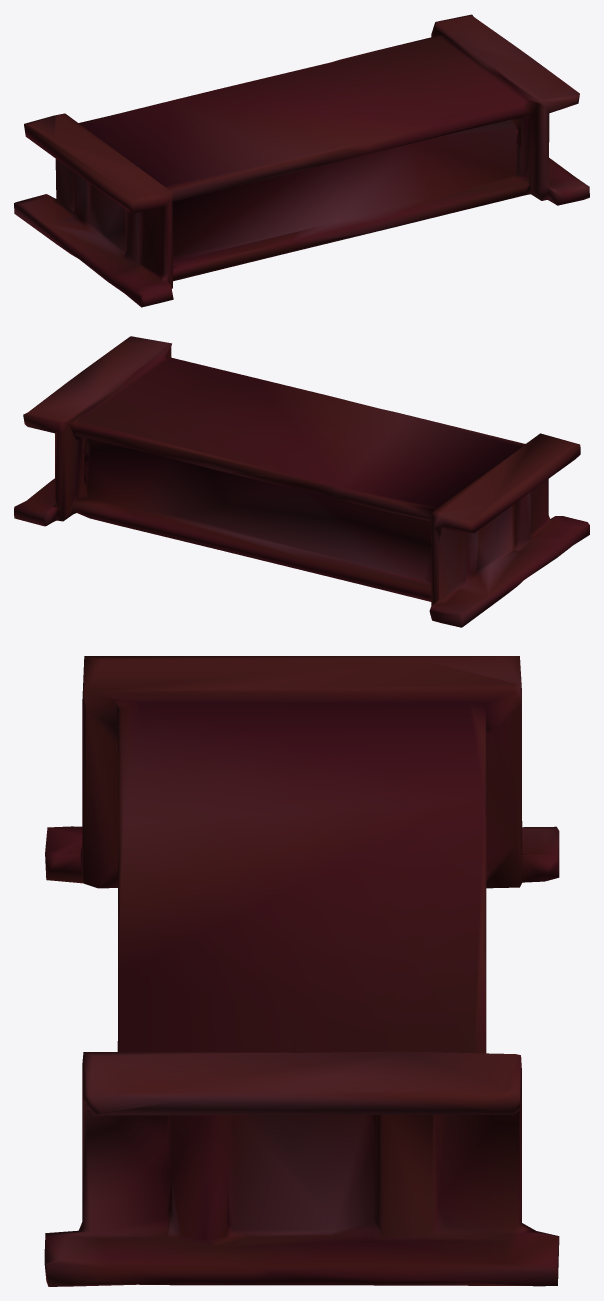
Rendered from gen3d-steel-beam-lod1.glb.
3 renders of one model, top to bottom at view 1: azimuth 30°, elevation 25°; view 2: azimuth 150°, elevation 25°; view 3: azimuth 270°, elevation 25°, orthographic. The views are drawn at different scales.
Parts seen in each view (by area): view 1: part_0; view 2: part_0; view 3: part_0.
Part boxes in pixels (<box>): part_0: <box>14,14,589,307</box>; part_0: <box>14,336,589,627</box>; part_0: <box>44,656,559,1286</box>.
Bounding box in the file's own units: 4.73 × 0.9997 × 2.34.
